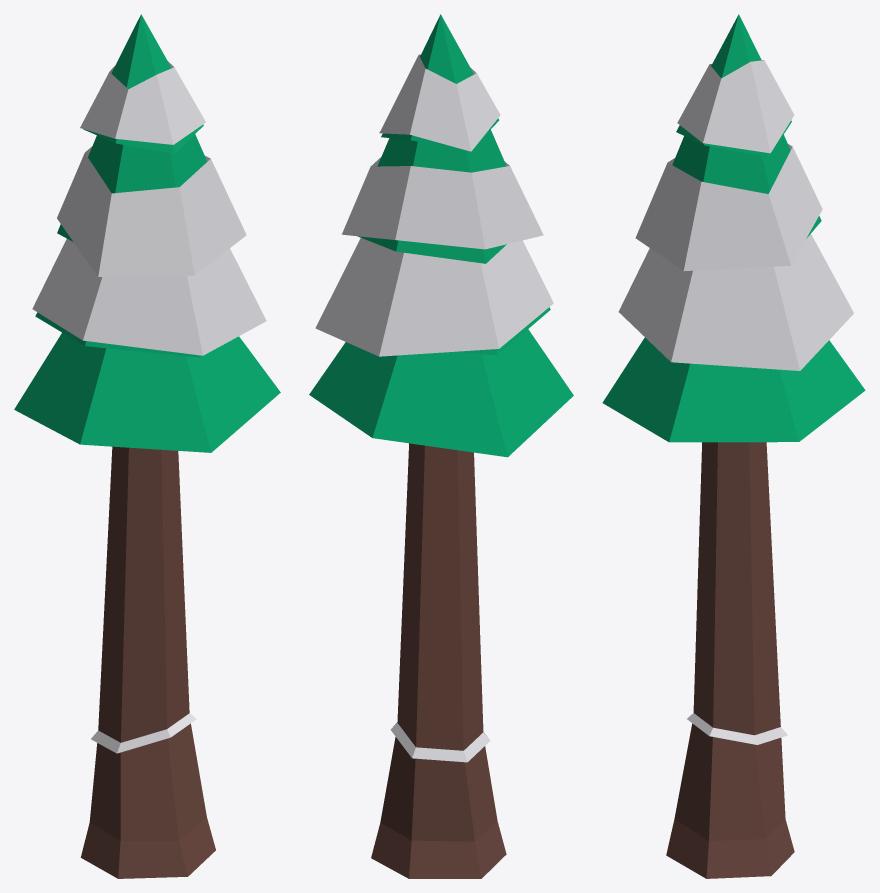
File: Tree03.fbx
The picture shows the model from 3 angles, left to right: view 1: azimuth 30°, elevation 25°; view 2: azimuth 150°, elevation 25°; view 3: azimuth 270°, elevation 25°; orthographic projection.
Parts seen in each view (by area): view 1: Tree03_Stem, Tree03_Stump, Tree03_Stump_Snow; view 2: Tree03_Stem, Tree03_Stump, Tree03_Stump_Snow; view 3: Tree03_Stem, Tree03_Stump, Tree03_Stump_Snow.
Part boxes in pixels (x1,y1,x2,y2): Tree03_Stem: [14, 14, 280, 742]; Tree03_Stump: [80, 723, 215, 878]; Tree03_Stump_Snow: [91, 713, 196, 753]; Tree03_Stem: [309, 14, 573, 750]; Tree03_Stump: [371, 737, 506, 878]; Tree03_Stump_Snow: [390, 722, 490, 762]; Tree03_Stem: [602, 14, 865, 735]; Tree03_Stump: [666, 723, 794, 878]; Tree03_Stump_Snow: [687, 713, 787, 744].
Size of the model in its own units: 1.23 by 4.88 by 1.39.
Materials: 1 (1 with a texture image).
